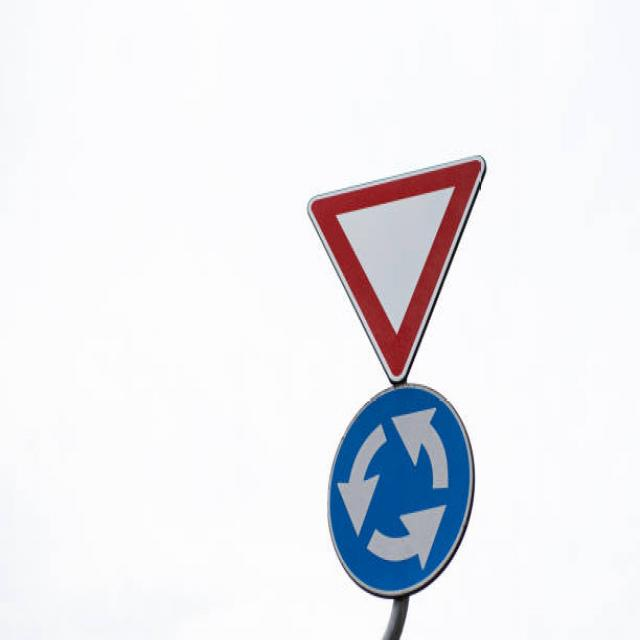round_about: (326, 378, 476, 597)
